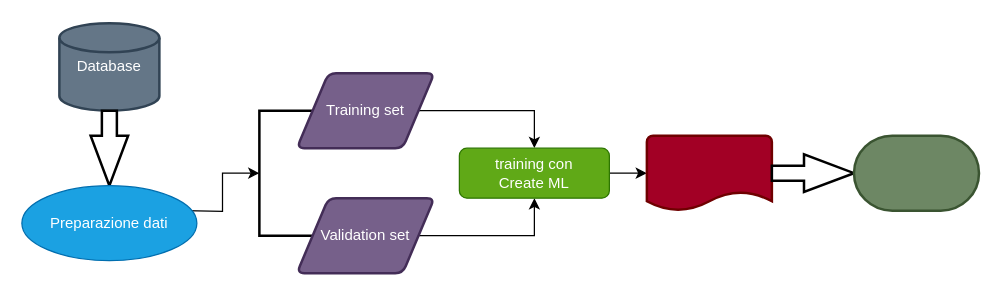
Some shapes in this 1003 by 295 pixel diagram are drawn without their labels. Each missing label, with the centre of its shape:
GeneroCity app iOS: (x=916, y=172)
Modello ".mlmodel": (x=708, y=172)
